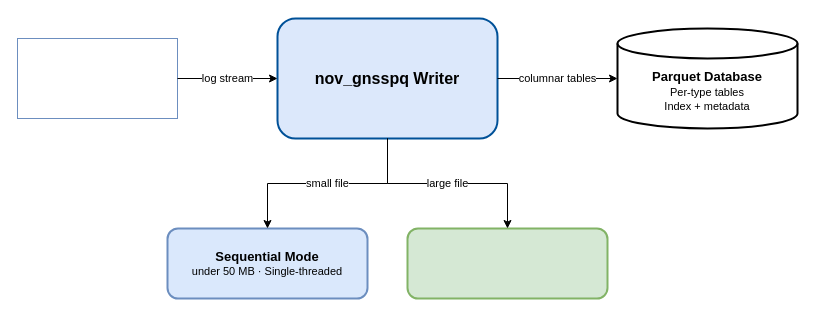
Image size: 816x316. Some labels were removed from this diagram. The box of each missing label's shape, as (x1, y1, x2, y2) in pixels:
GPS Recording .GPS Binary File: (16, 38, 178, 118)
Parallel Mode 50 MB+ · Multi-process: (406, 227, 608, 299)
